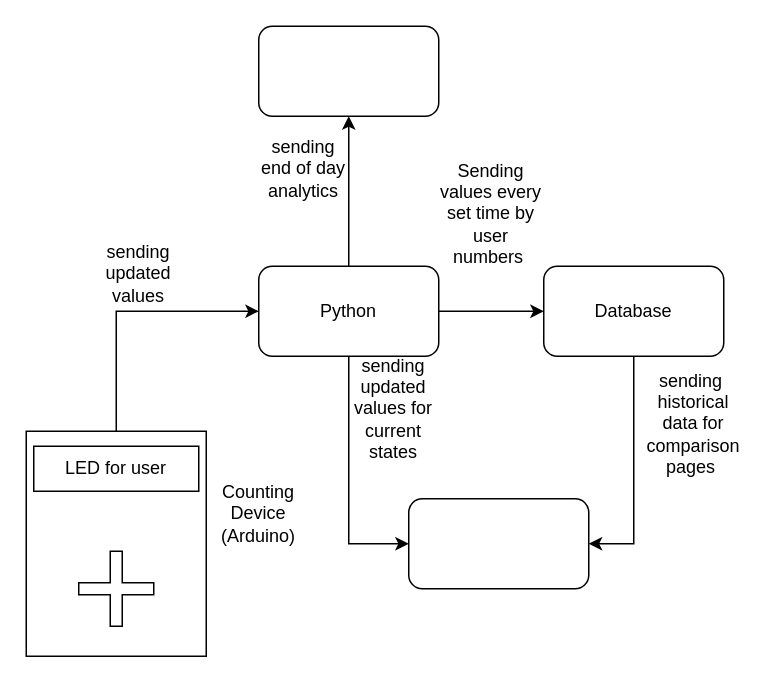
This 767x683 diagram has some shape labels left out. The shapes that lost their labels are listed below. From the top down, each one's box as (x1, y1, x2, y2) in pixels, then its label:
(257, 25, 439, 116): Spreadsheet
(407, 497, 589, 589): Website
